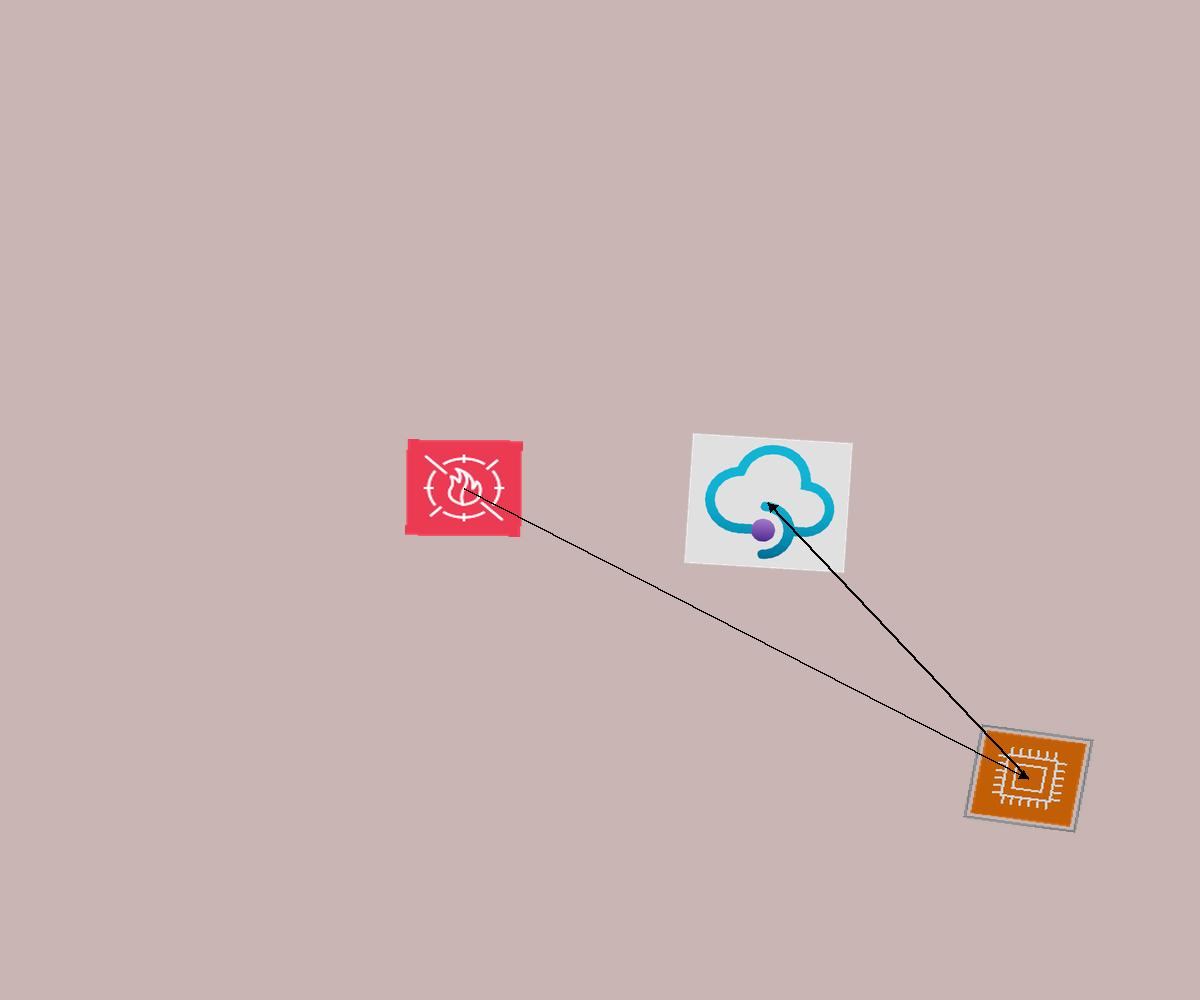AWS-Category_Compute: (963, 724, 1094, 833)
AWS-WAF: (405, 439, 523, 537)
Azure_api_gateway: (684, 433, 853, 573)
